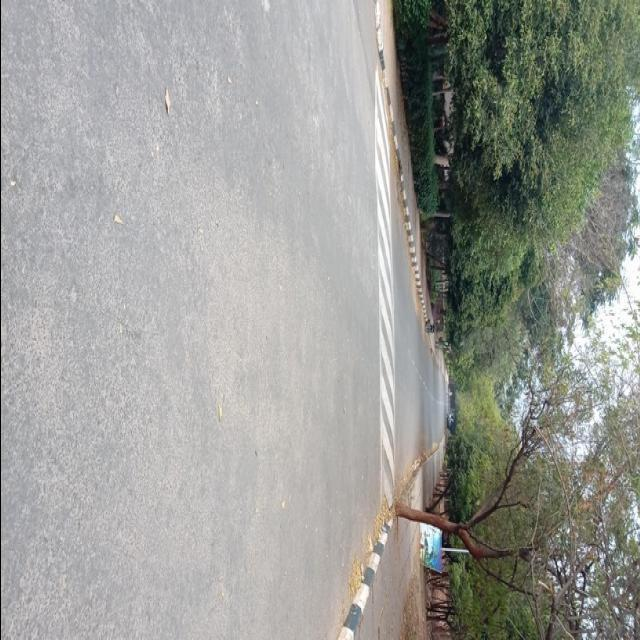speedbreaker: (371, 78, 394, 521)
